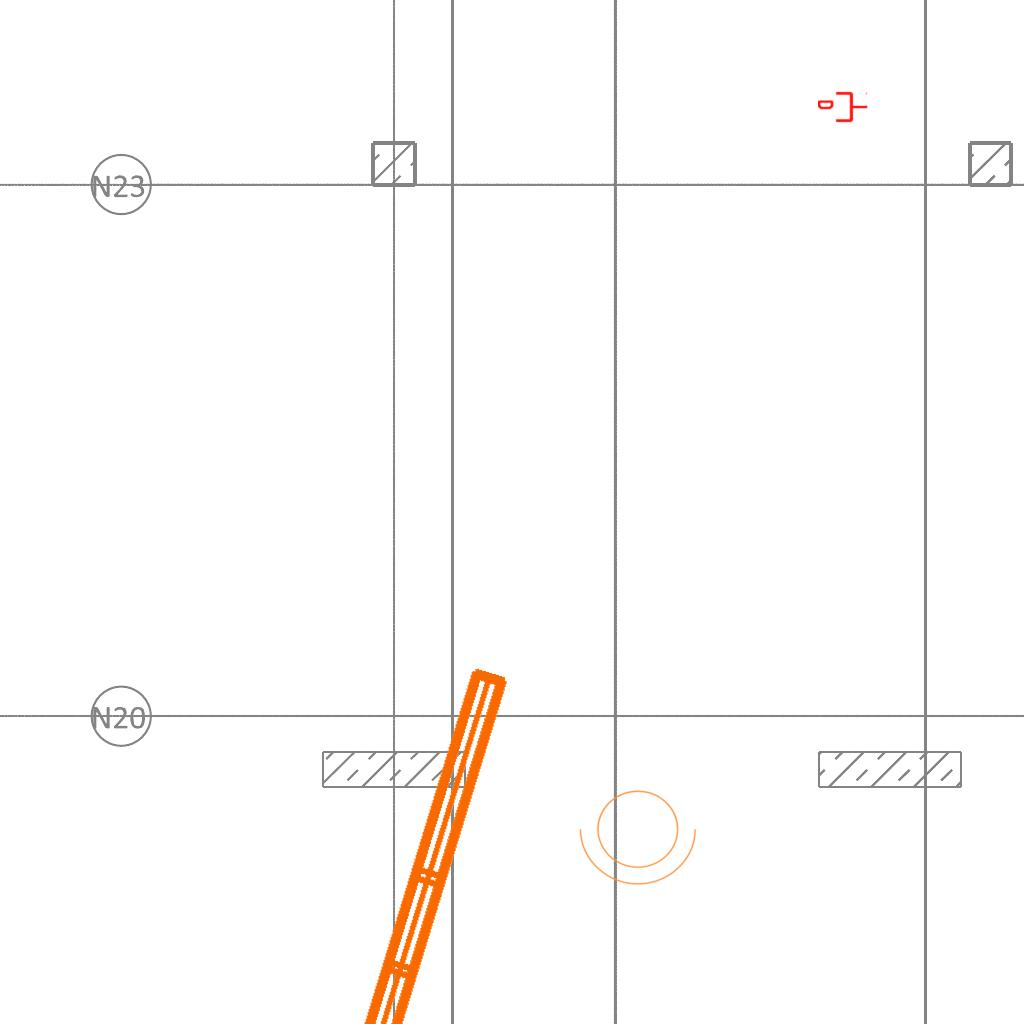Ambulanz_Pendelleuchte_LED: (238, 653, 572, 1024)
Datenanschluss_einfach: (818, 90, 868, 124)
Scheinwerfer_fuer_Alarmbeleuchtung: (575, 778, 707, 890)
